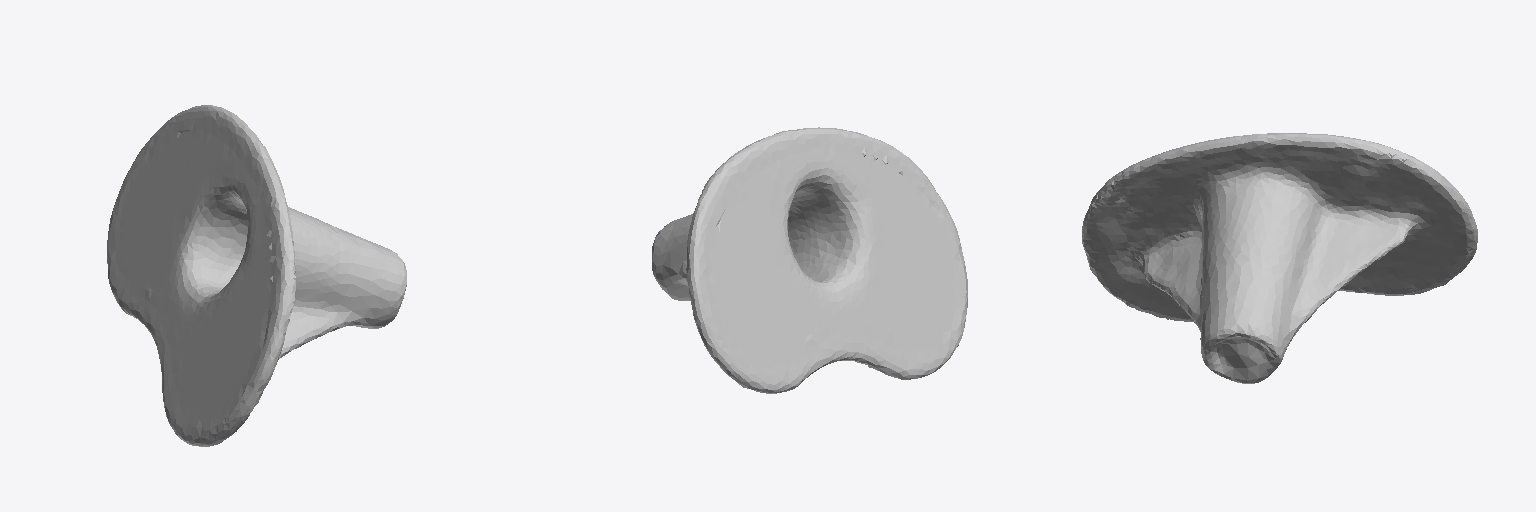
The model's file is ProtesiSottoSistemata.obj.
The picture shows the model from 3 angles: view 1: azimuth 30°, elevation 25°; view 2: azimuth 150°, elevation 25°; view 3: azimuth 270°, elevation 25°; orthographic projection.
Parts seen in each view (by area): view 1: Knee_Prosthesis_1.001_Knee_Prosthesis_1.003; view 2: Knee_Prosthesis_1.001_Knee_Prosthesis_1.003; view 3: Knee_Prosthesis_1.001_Knee_Prosthesis_1.003.
Part boxes in pixels (left/top/right/bottom): Knee_Prosthesis_1.001_Knee_Prosthesis_1.003: left=107, top=105, right=406, bottom=446; Knee_Prosthesis_1.001_Knee_Prosthesis_1.003: left=652, top=127, right=967, bottom=393; Knee_Prosthesis_1.001_Knee_Prosthesis_1.003: left=1082, top=133, right=1477, bottom=383.
Bounding box in the file's own units: 22.86 × 21.42 × 31.54.